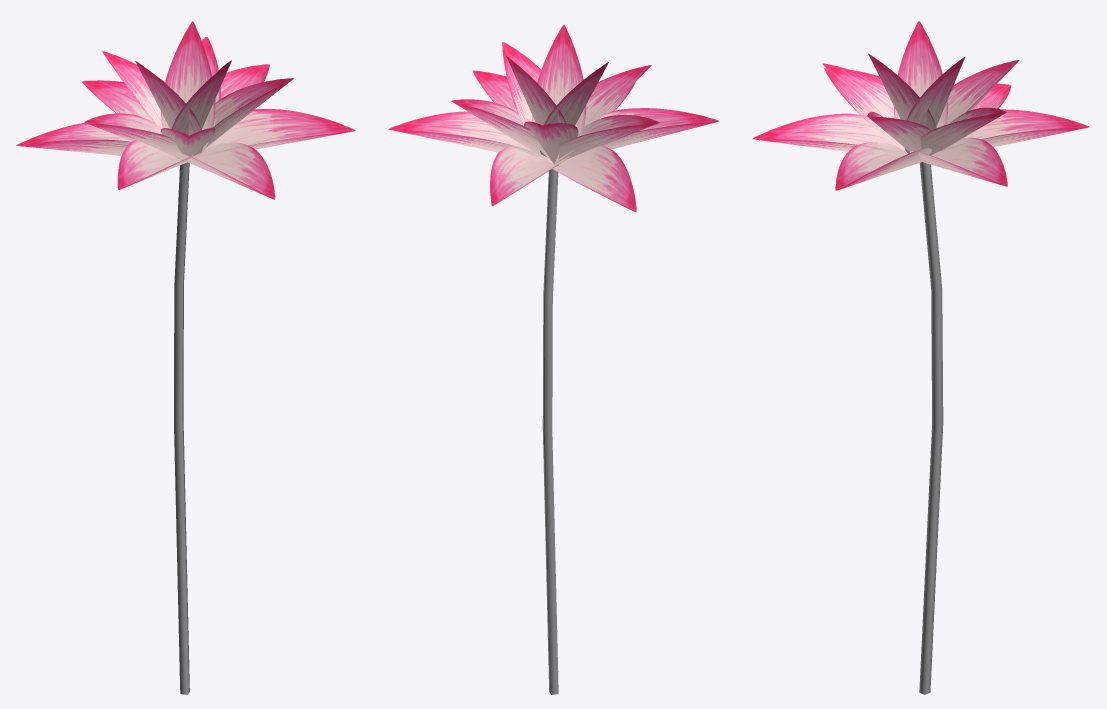
The model's file is Hasu_Flower.fbx.
3 renders of one model, left to right at view 1: azimuth 30°, elevation 25°; view 2: azimuth 150°, elevation 25°; view 3: azimuth 270°, elevation 25°, orthographic.
Parts seen in each view (by area): view 1: Hasu_Flower2, Stem2; view 2: Hasu_Flower2, Stem2; view 3: Hasu_Flower2, Stem2.
Part boxes in pixels (x1,y1,x2,y2): Hasu_Flower2: [16, 21, 355, 199]; Stem2: [174, 162, 189, 694]; Hasu_Flower2: [388, 24, 719, 212]; Stem2: [542, 165, 558, 694]; Hasu_Flower2: [752, 21, 1089, 190]; Stem2: [919, 162, 943, 694].
Bounding box in the file's own units: 4.21 × 9.21 × 4.29.
Materials: 2 (1 with a texture image).
